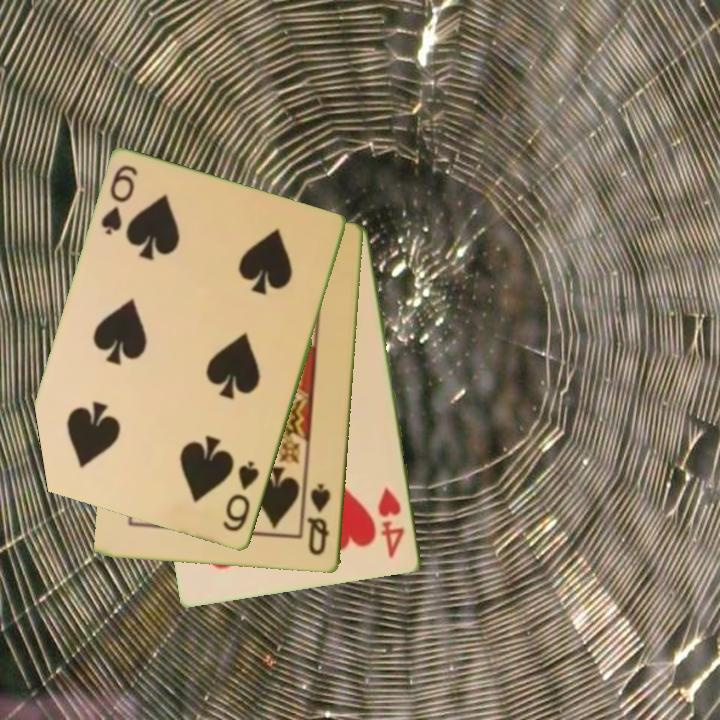4h: (375, 483, 408, 561)
6s: (219, 458, 263, 535), (97, 162, 141, 239)
Qs: (305, 480, 334, 559)
